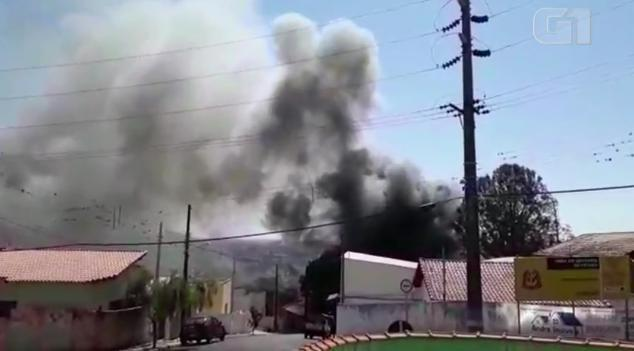smoke: (123, 90, 221, 179)
